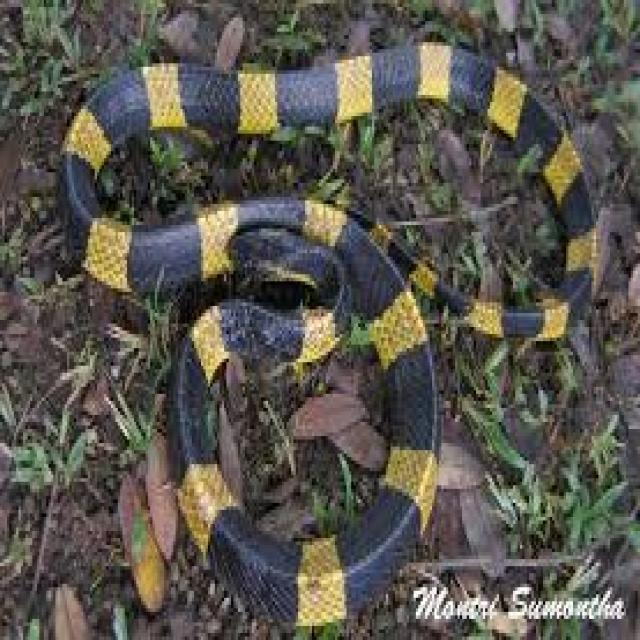Venomous: (225, 198, 392, 378)
